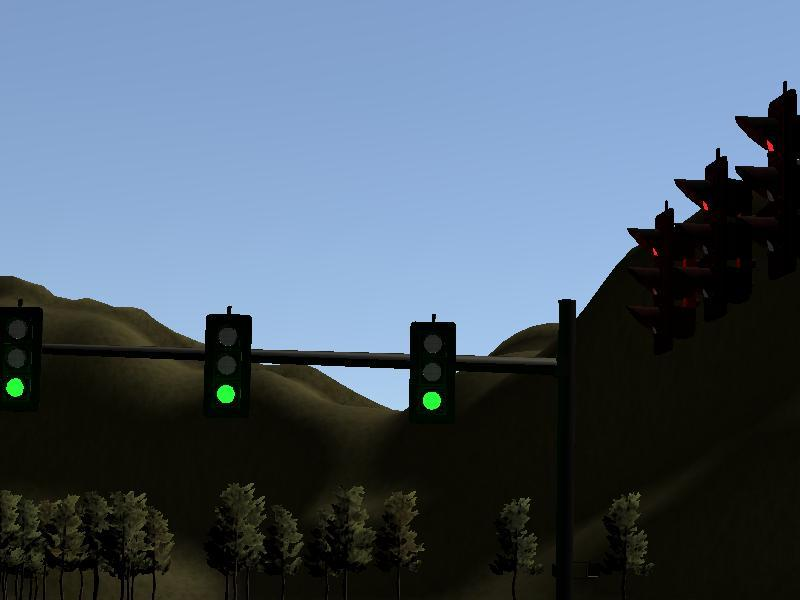Green: (204, 314, 252, 421), (409, 322, 457, 427), (1, 306, 43, 413)
